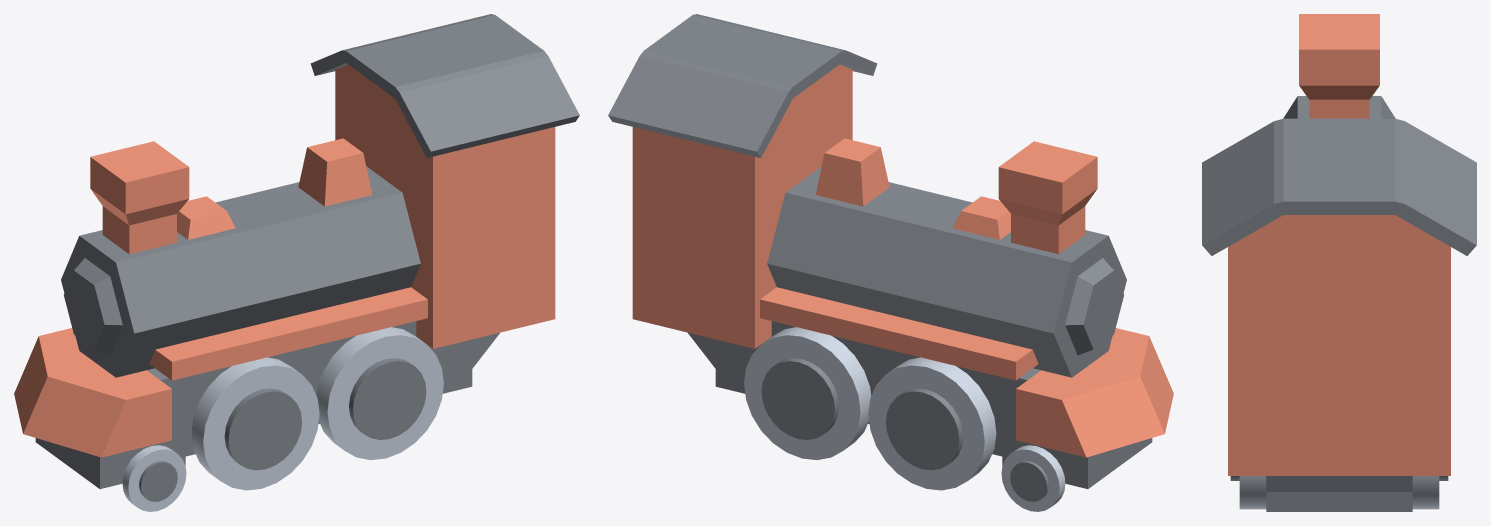
File: trainLocomotive.glb
The picture shows the model from 3 angles, left to right: view 1: azimuth 30°, elevation 25°; view 2: azimuth 150°, elevation 25°; view 3: azimuth 270°, elevation 25°; orthographic projection. The views are drawn at different scales.
Visible parts, largest first — view 1: Mesh trainLocomotive, wheel; view 2: Mesh trainLocomotive, wheel; view 3: Mesh trainLocomotive, wheel (×2).
Boxes of the visible parts, <box> form: Mesh trainLocomotive: <box>14,14,579,488</box>; wheel: <box>122,327,443,511</box>; Mesh trainLocomotive: <box>608,14,1173,488</box>; wheel: <box>744,327,1065,511</box>; Mesh trainLocomotive: <box>1202,14,1476,511</box>; wheel (×2): <box>1230,476,1448,509</box>.
Size of the model in its own units: 0.4147 by 0.2796 by 0.1741.
